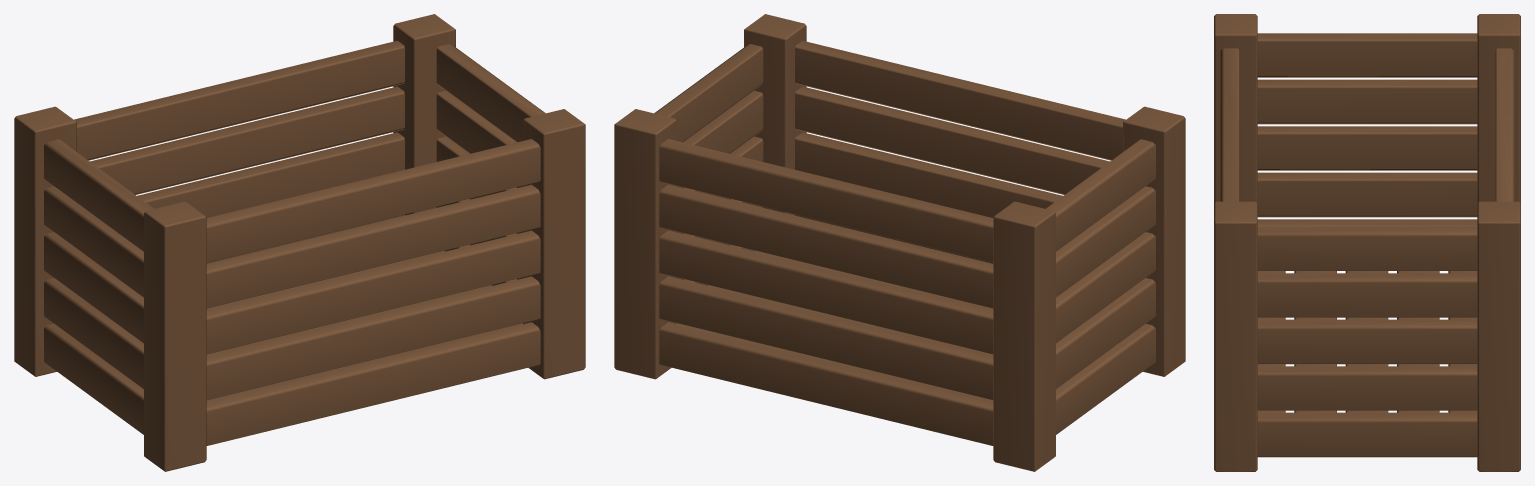
3 renders of one model, left to right at view 1: azimuth 30°, elevation 25°; view 2: azimuth 150°, elevation 25°; view 3: azimuth 270°, elevation 25°, orthographic.
Visible parts, largest first — view 1: Box_4; view 2: Box_4; view 3: Box_4.
Part boxes in pixels (<box>): Box_4: <box>14,14,585,471</box>; Box_4: <box>614,14,1185,471</box>; Box_4: <box>1214,14,1520,471</box>.
Bounding box in the file's own units: 0.7713 × 0.4309 × 0.4783.
Materials: 1 (1 with a texture image).
